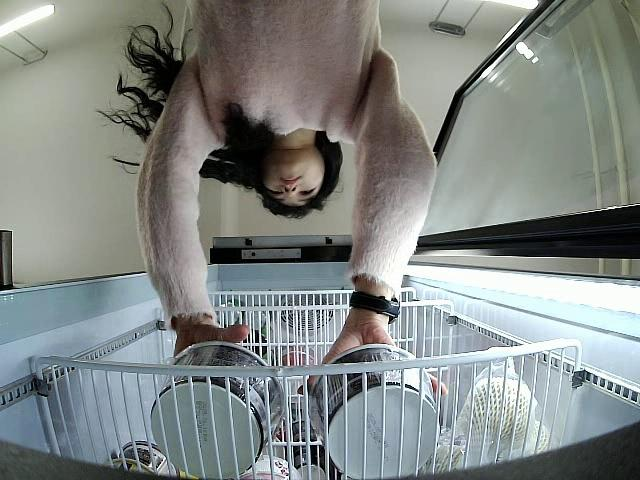00_hand: (297, 317, 449, 408), (165, 318, 247, 359)
07_buldak_L: (149, 343, 285, 480), (311, 344, 441, 476)
